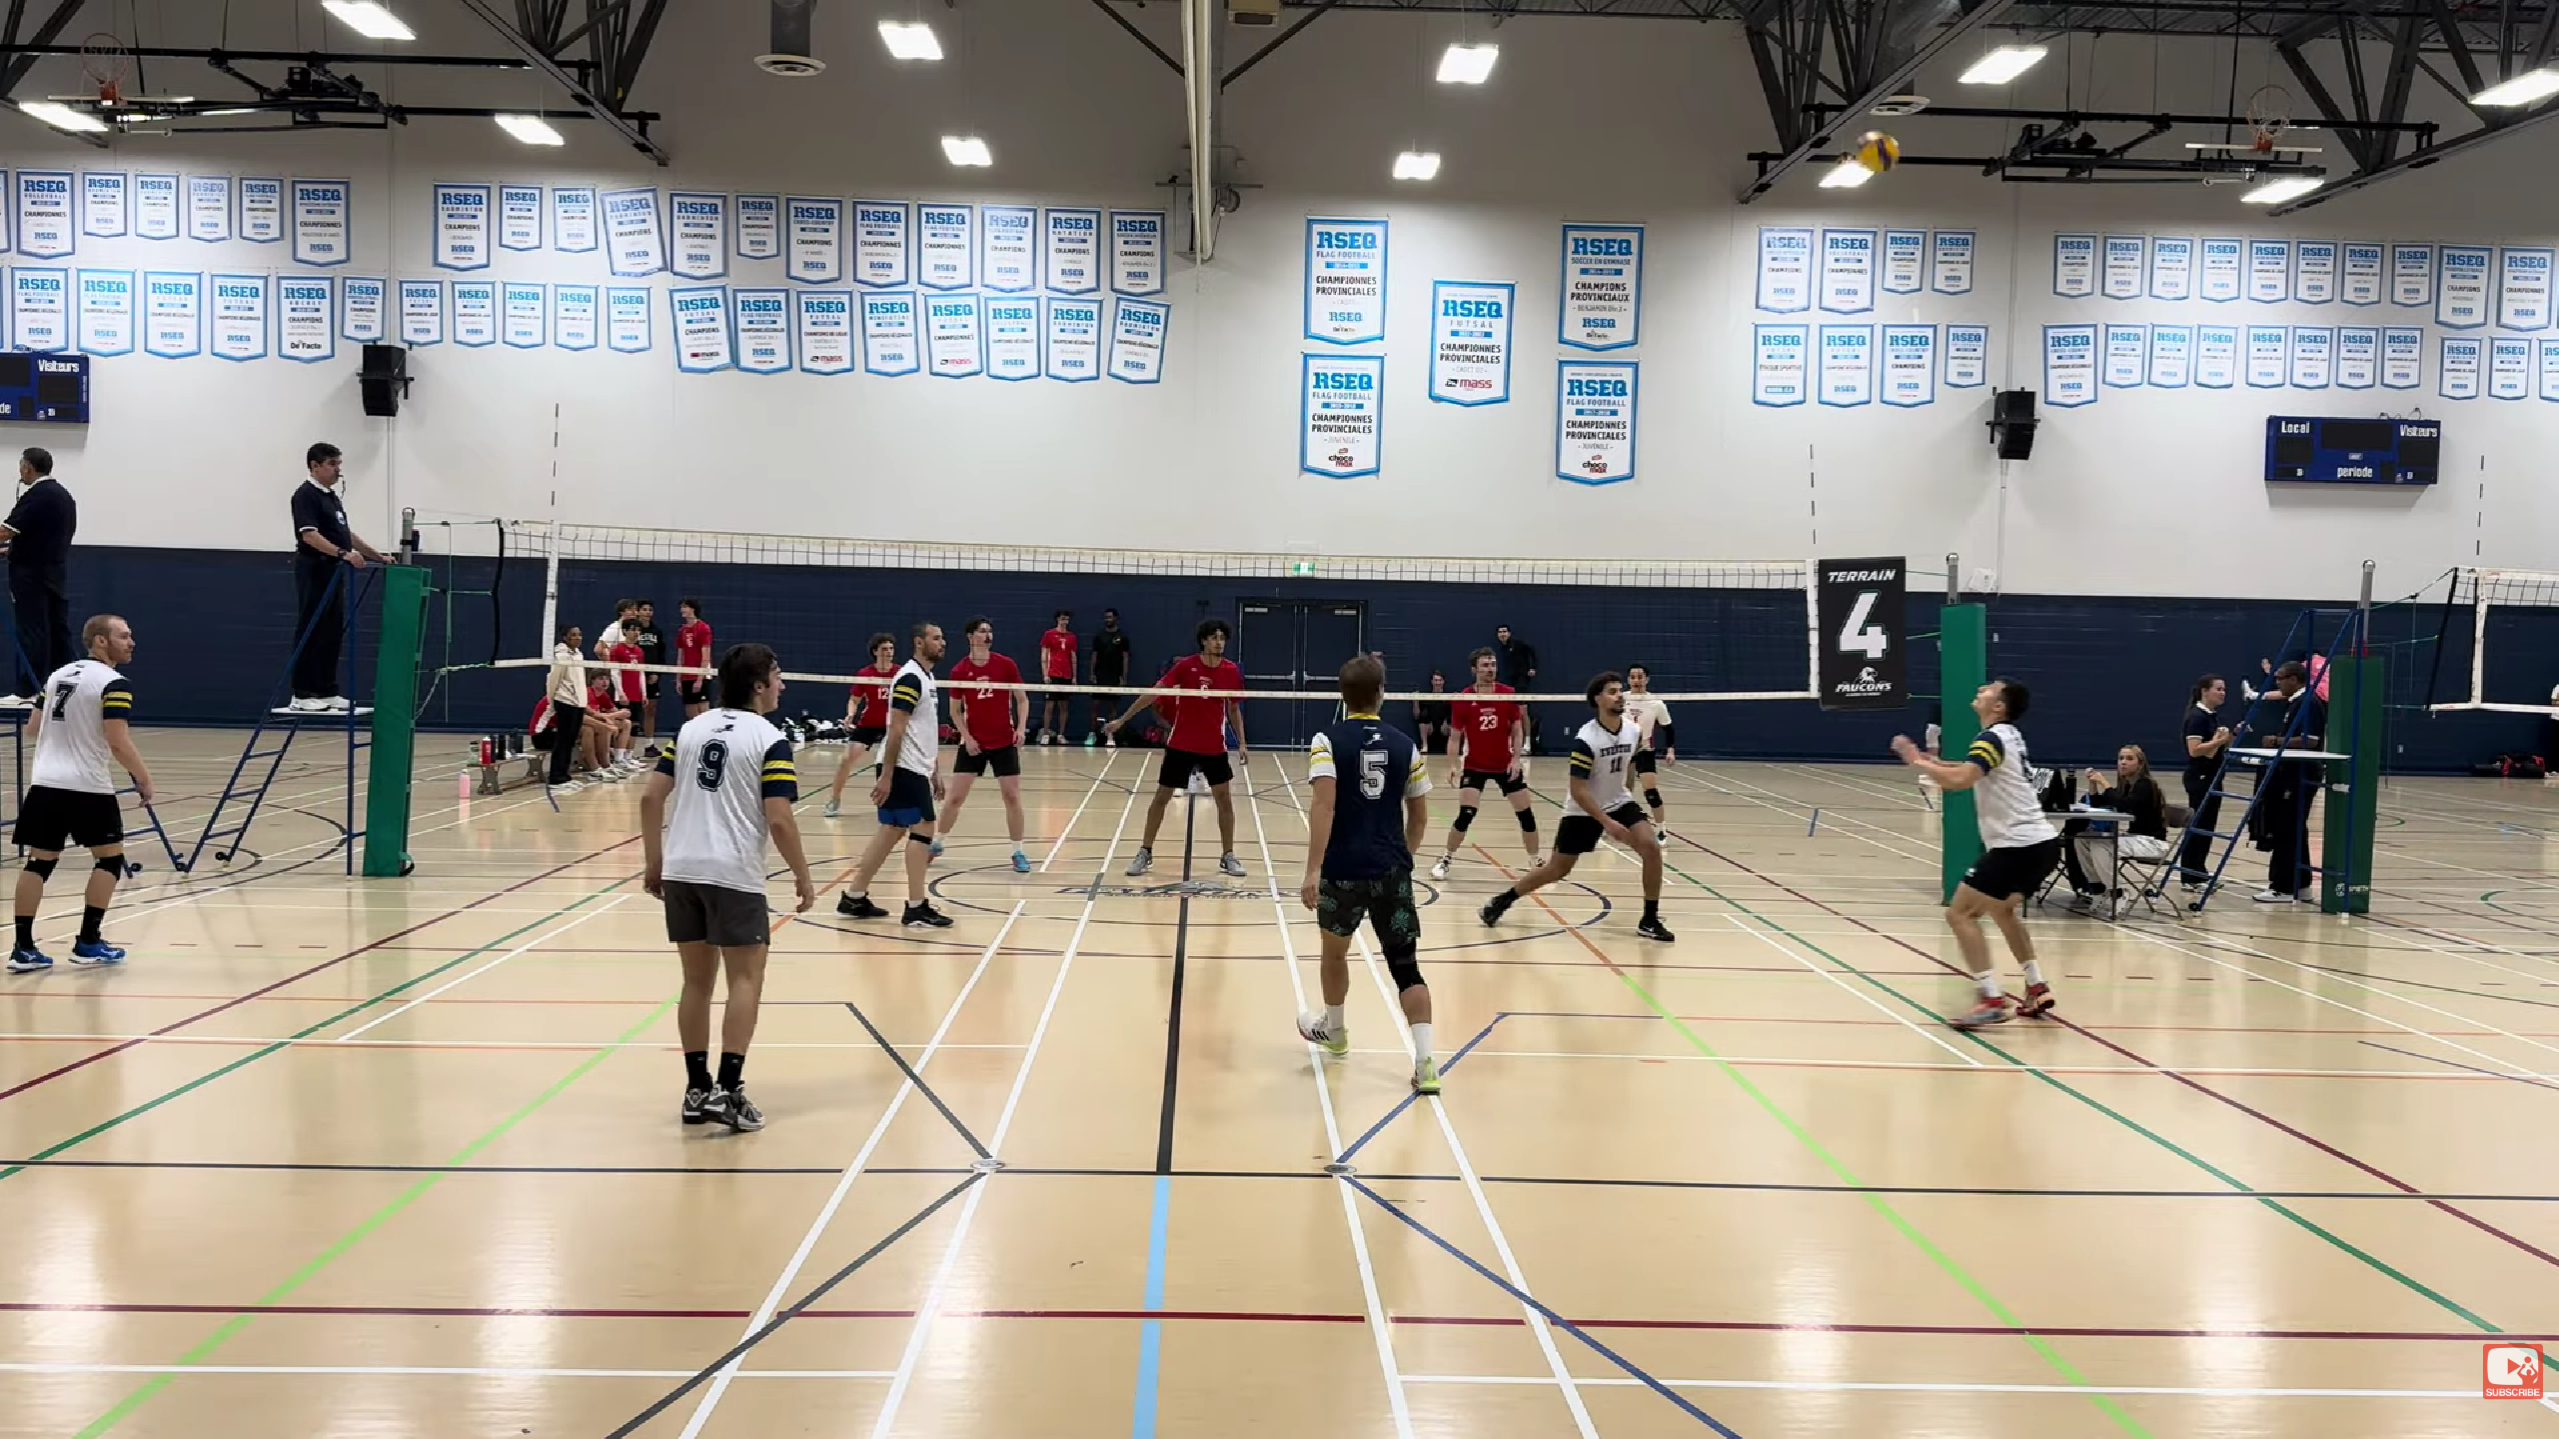Ball: (1854, 127, 1902, 174)
